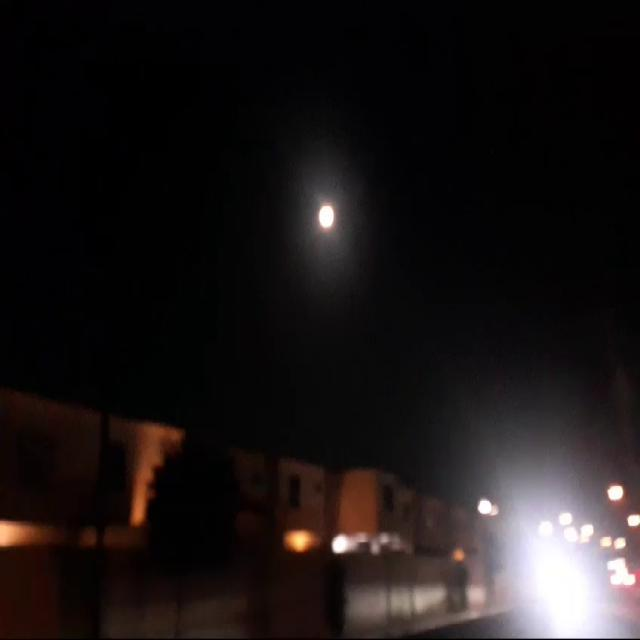moon: (317, 199, 336, 233)
